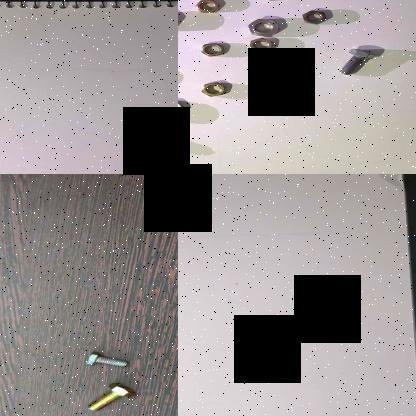Bolts: (78, 382, 138, 416), (333, 46, 380, 78), (79, 349, 131, 371)
NUTS: (194, 77, 232, 99), (247, 17, 282, 38), (196, 40, 232, 58), (297, 8, 331, 24), (244, 38, 274, 54)
